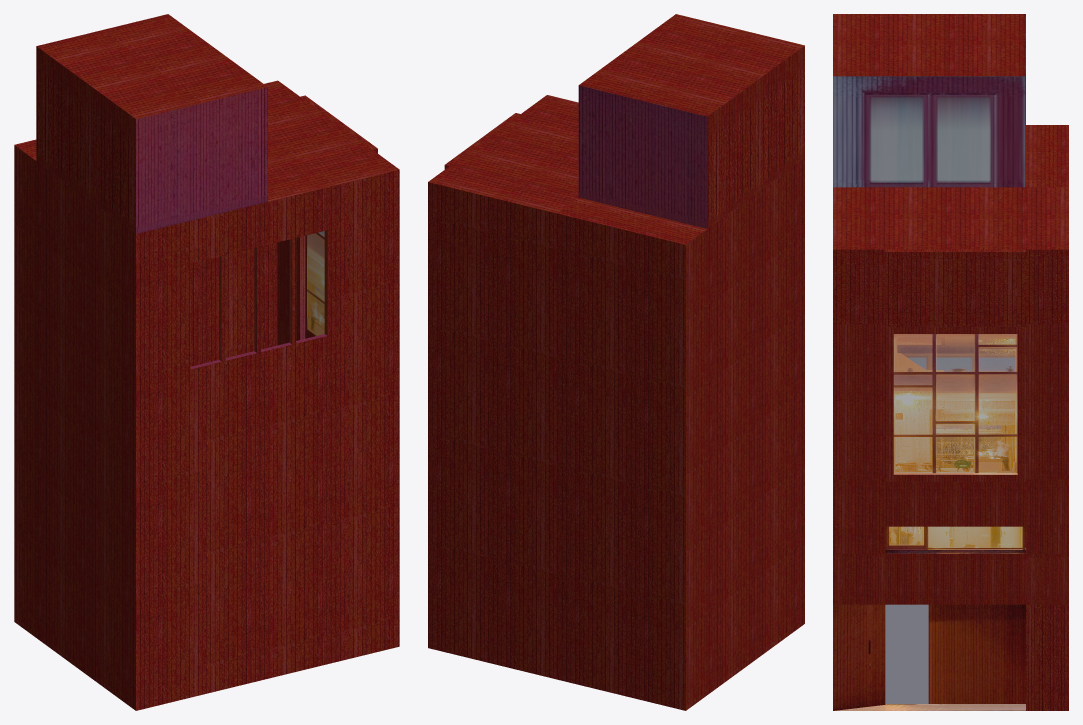
The model's file is facha_principal.obj.
3 views of the same model, side by side, from view 1: azimuth 30°, elevation 25°; view 2: azimuth 150°, elevation 25°; view 3: azimuth 270°, elevation 25° (orthographic). The views are drawn at different scales.
Parts seen in each view (by area): view 1: fachada_principal_Cube.001_fachada_principal_Cube.001_madera, fachada_principal_Cube.001_fachada_principal_Cube.001_FACHADA; view 2: fachada_principal_Cube.001_fachada_principal_Cube.001_madera, fachada_principal_Cube.001_fachada_principal_Cube.001_FACHADA; view 3: fachada_principal_Cube.001_fachada_principal_Cube.001_madera, fachada_principal_Cube.001_fachada_principal_Cube.001_FACHADA.
Part boxes in pixels (x1=…): fachada_principal_Cube.001_fachada_principal_Cube.001_madera: x1=14, y1=14, x2=399, y2=710; fachada_principal_Cube.001_fachada_principal_Cube.001_FACHADA: x1=136, y1=87, x2=327, y2=369; fachada_principal_Cube.001_fachada_principal_Cube.001_madera: x1=428, y1=14, x2=804, y2=710; fachada_principal_Cube.001_fachada_principal_Cube.001_FACHADA: x1=578, y1=85, x2=707, y2=228; fachada_principal_Cube.001_fachada_principal_Cube.001_madera: x1=833, y1=14, x2=1068, y2=710; fachada_principal_Cube.001_fachada_principal_Cube.001_FACHADA: x1=833, y1=76, x2=1025, y2=710.
Size of the model in its own units: 5.1 by 10.72 by 4.
